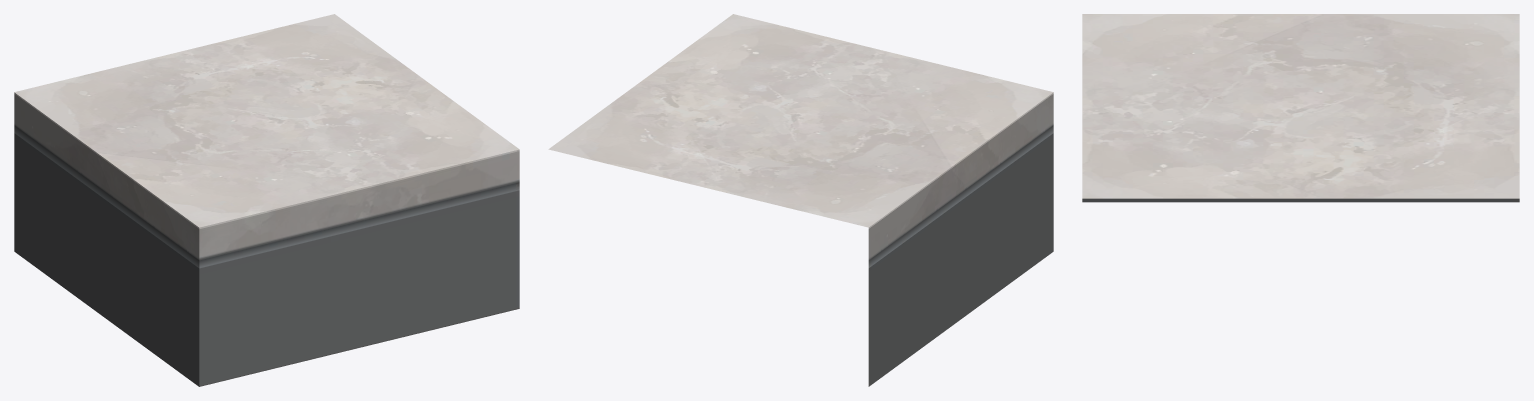
File: my_shoppingmall_01_tile.glb
3 renders of one model, left to right at view 1: azimuth 30°, elevation 25°; view 2: azimuth 150°, elevation 25°; view 3: azimuth 270°, elevation 25°, orthographic. The views are drawn at different scales.
Visible parts, largest first — view 1: my_shoppingmall_01_tile; view 2: my_shoppingmall_01_tile; view 3: my_shoppingmall_01_tile.
Boxes of the visible parts, box(x1,y1,x2,y2) form: my_shoppingmall_01_tile: box(14, 14, 519, 386); my_shoppingmall_01_tile: box(548, 14, 1053, 386); my_shoppingmall_01_tile: box(1082, 14, 1519, 202).
Size of the model in its own units: 0.006 by 0.00285 by 0.006.
Materials: 1 (1 with a texture image).
